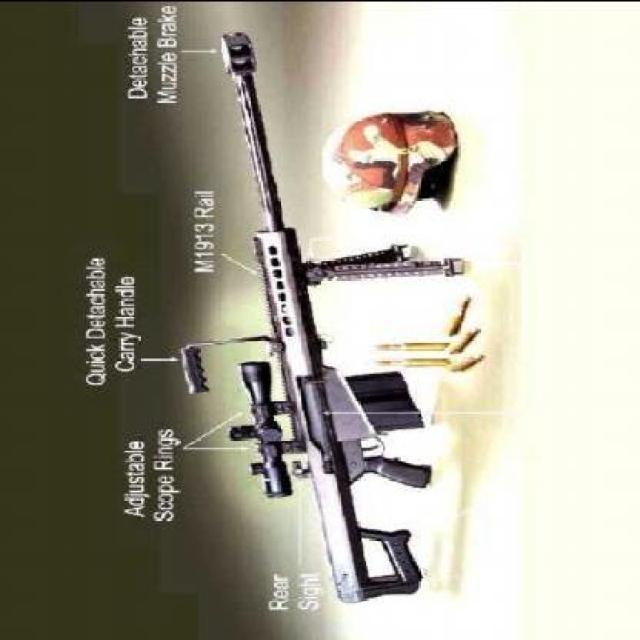Rifle: (179, 29, 482, 603)
